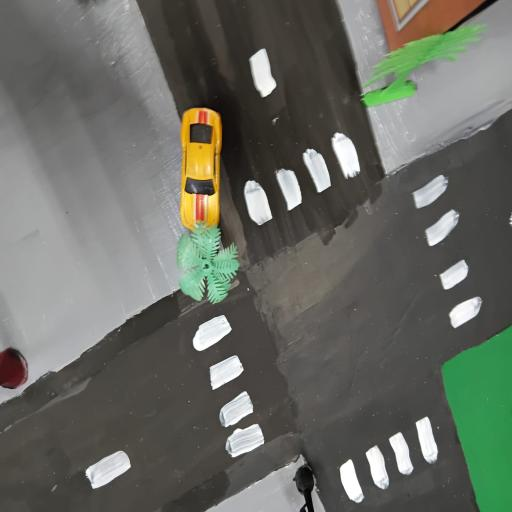car crash: (176, 102, 228, 235)
